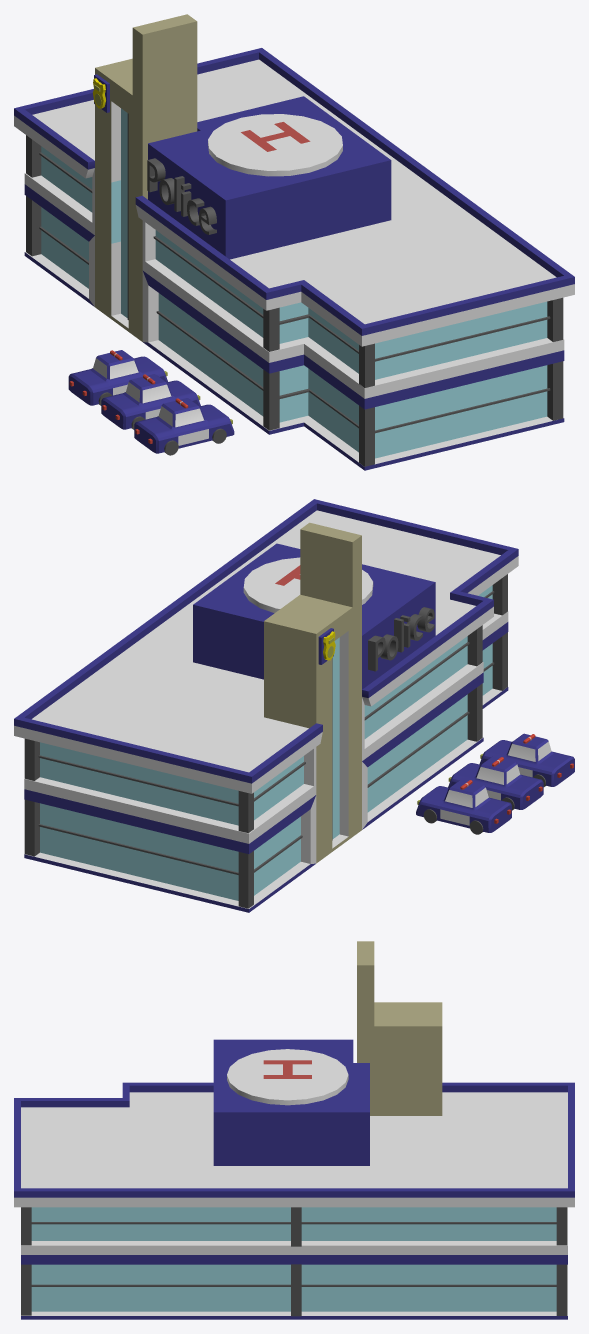
Rendered from Police.fbx.
The picture shows the model from 3 angles, top to bottom: view 1: azimuth 30°, elevation 25°; view 2: azimuth 150°, elevation 25°; view 3: azimuth 270°, elevation 25°; orthographic projection. The views are drawn at different scales.
Visible parts, largest first — view 1: pCube91, pCube120 (×3), pCylinder15, typeMesh1, pCube106, pCube98, pCube95, pCube104, pCube105, pCube97, H, pCube96 (+2 smaller); view 2: pCube91, pCube120 (×3), pCylinder15, typeMesh1, pCube104, pCube100, pCube95, pCube106, pCube118, pCube119, pCube103, pCube99 (+2 smaller); view 3: pCube91, pCylinder15, pCube116, pCube117, pCube100, pCube102, pCube98, H.
Part boxes in pixels (x1,y1,x2,y2): pCube91: (14, 14, 574, 470); pCube120 (×3): (68, 350, 234, 453); pCylinder15: (208, 114, 342, 176); typeMesh1: (147, 158, 216, 234); pCube106: (263, 369, 279, 430); pCube98: (547, 361, 563, 420); pCube95: (359, 405, 374, 466); pCube104: (26, 196, 41, 256); pCube105: (263, 307, 279, 351); pCube97: (547, 297, 563, 341); H: (241, 122, 310, 151); pCube96: (359, 343, 374, 387); pCube91: (14, 499, 518, 912); pCube120 (×3): (416, 733, 574, 832); pCylinder15: (243, 557, 373, 613); typeMesh1: (368, 607, 434, 671); pCube104: (238, 851, 253, 908); pCube100: (24, 799, 39, 856); pCube95: (492, 632, 507, 690); pCube106: (467, 683, 482, 741); pCube118: (38, 755, 238, 806); pCube119: (38, 824, 238, 874); pCube103: (238, 791, 253, 833); pCube99: (24, 738, 39, 780); pCube91: (14, 941, 574, 1319); pCylinder15: (227, 1049, 348, 1105); pCube116: (31, 1284, 556, 1286); pCube117: (31, 1222, 556, 1224); pCube100: (556, 1264, 567, 1315); pCube102: (291, 1264, 301, 1316); pCube98: (21, 1264, 31, 1315); H: (263, 1060, 311, 1078).
Size of the model in its own units: 102 by 87.06 by 159.
